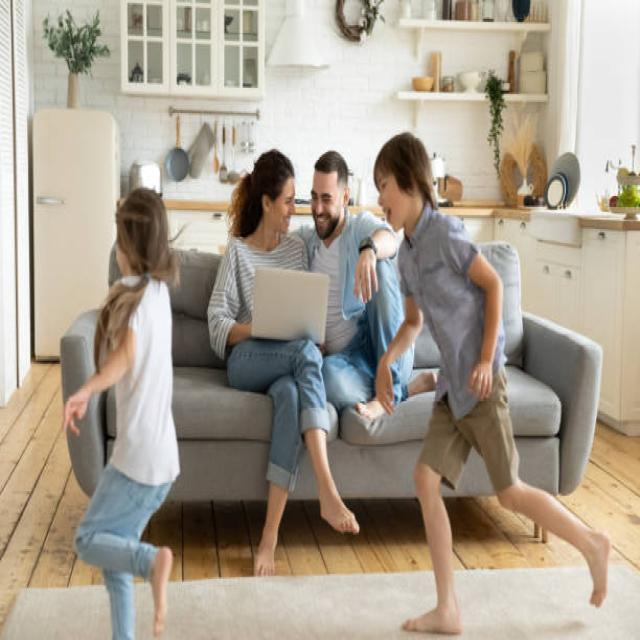Person: (375, 131, 610, 632), (207, 148, 360, 576), (64, 186, 182, 640), (299, 151, 436, 423)
